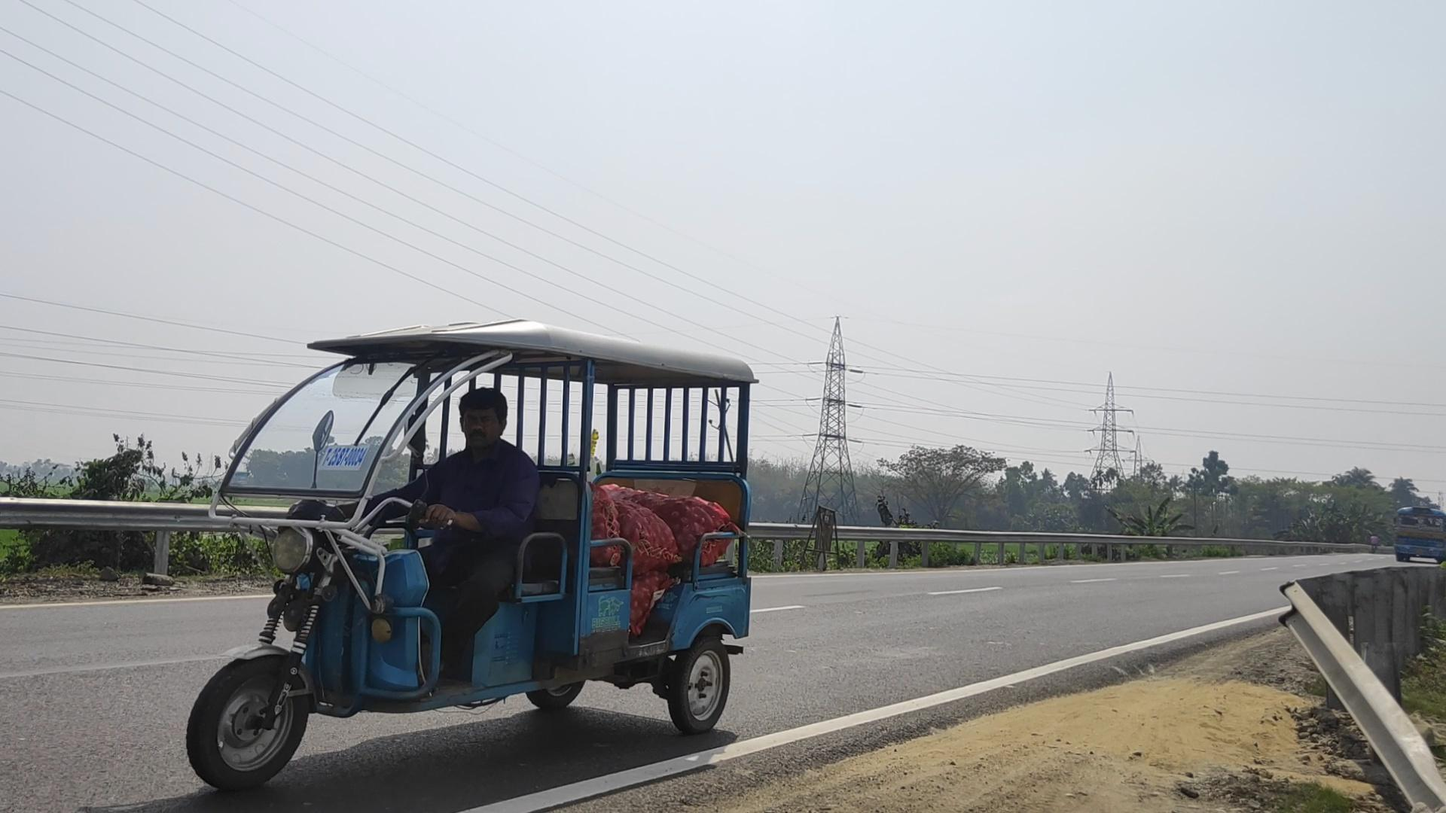Auto: (185, 318, 759, 794)
Bus: (1393, 505, 1446, 565)
